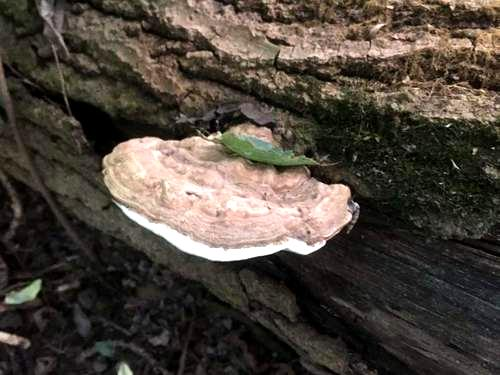Ganoderma - Fruit Body: (104, 122, 360, 264)
